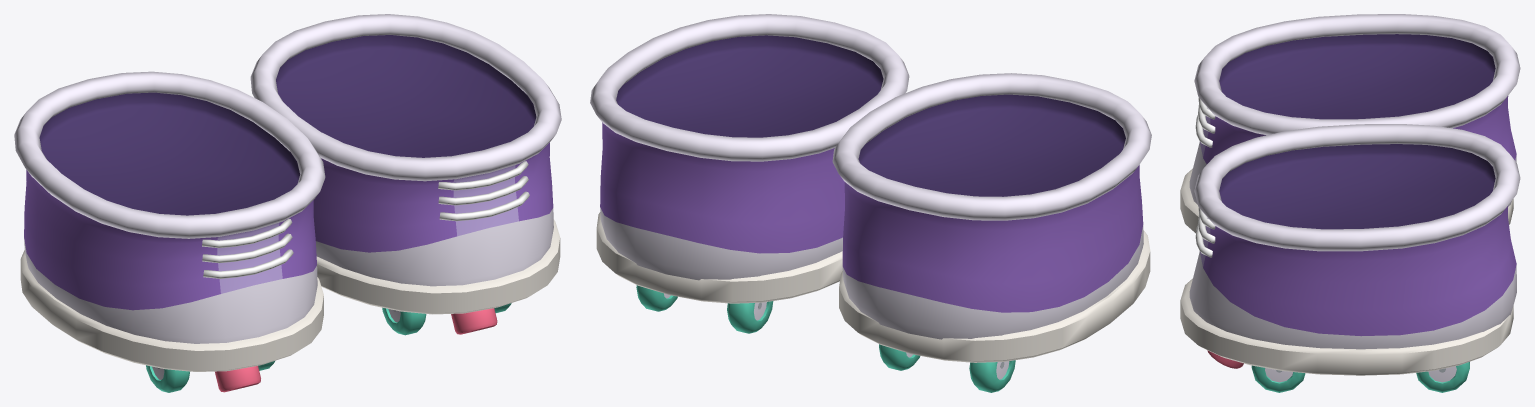
Rendered from patins.glb.
3 views of the same model, side by side, from view 1: azimuth 30°, elevation 25°; view 2: azimuth 150°, elevation 25°; view 3: azimuth 270°, elevation 25° (orthographic). The views are drawn at different scales.
Parts seen in each view (by area): view 1: patim-dir, patim-esq; view 2: patim-dir, patim-esq; view 3: patim-esq, patim-dir.
Part boxes in pixels (x1=…): patim-dir: x1=14, y1=71, x2=325, y2=392; patim-esq: x1=250, y1=14, x2=561, y2=335; patim-dir: x1=832, y1=73, x2=1151, y2=392; patim-esq: x1=590, y1=14, x2=909, y2=333; patim-esq: x1=1180, y1=124, x2=1520, y2=392; patim-dir: x1=1180, y1=14, x2=1520, y2=233.
Size of the model in its own units: 0.8189 by 0.3388 by 0.5223.
